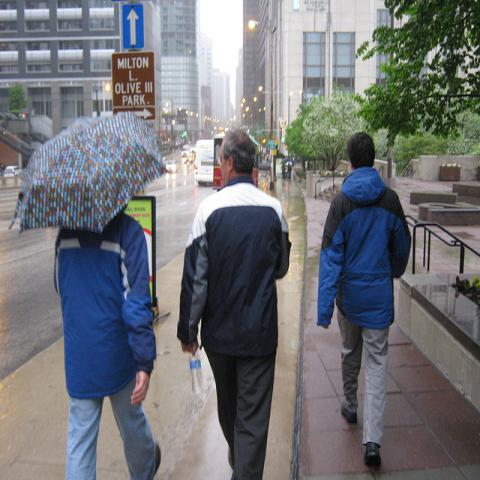bus: (212, 130, 260, 190), (195, 140, 214, 186)
car: (3, 166, 22, 177), (164, 160, 178, 173), (181, 145, 190, 157)
